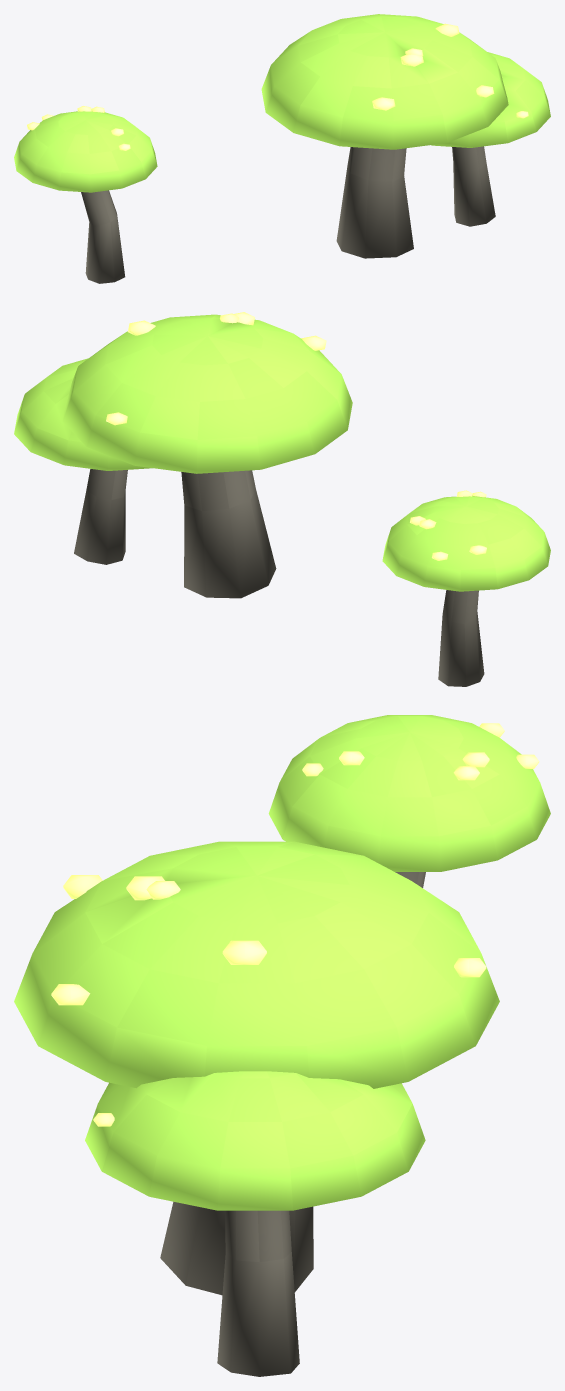
Rendered from obj_deco_hongos.glb.
3 views of the same model, one above another, from view 1: azimuth 30°, elevation 25°; view 2: azimuth 150°, elevation 25°; view 3: azimuth 270°, elevation 25° (orthographic). The views are drawn at different scales.
Visible parts, largest first — view 1: propforge-libre-deco_hongos; view 2: propforge-libre-deco_hongos; view 3: propforge-libre-deco_hongos.
Boxes of the visible parts, bbox=[...] form: propforge-libre-deco_hongos: bbox=[14, 14, 550, 283]; propforge-libre-deco_hongos: bbox=[14, 312, 550, 686]; propforge-libre-deco_hongos: bbox=[14, 715, 550, 1376].
Size of the model in its own units: 0.6146 by 0.2598 by 0.3101.
